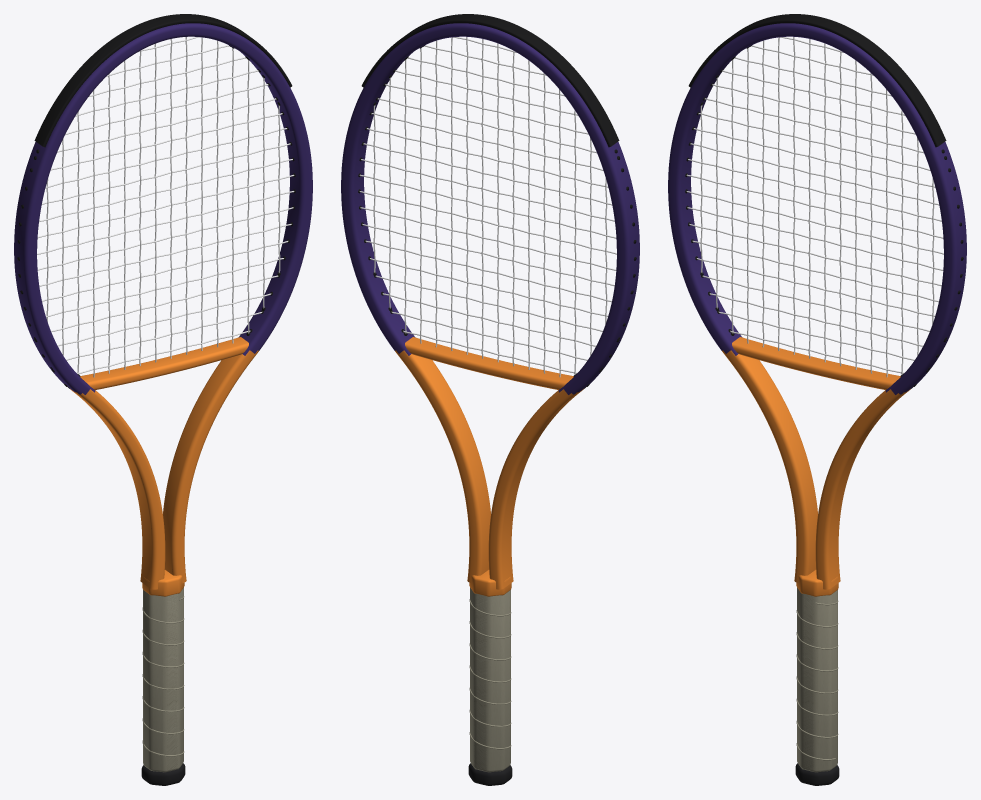
The model's file is head-gravity-mp-2025.glb.
3 renders of one model, left to right at view 1: azimuth 30°, elevation 25°; view 2: azimuth 150°, elevation 25°; view 3: azimuth 330°, elevation 25°, orthographic.
Visible parts, largest first — view 1: Frame, Strings, Handle, Bumper, Yoke, GripSeam, ButtCap, Collar; view 2: Frame, Strings, Handle, Bumper, Yoke, GripSeam, ButtCap, Collar; view 3: Frame, Strings, Handle, Bumper, Yoke, GripSeam, ButtCap, Collar.
Part boxes in pixels (box(x1,y1,x2,y2)): Frame: box(14, 23, 312, 589); Strings: box(37, 37, 294, 377); Handle: box(143, 587, 183, 772); Bumper: box(34, 14, 292, 147); Yoke: box(80, 337, 248, 389); GripSeam: box(142, 596, 184, 756); ButtCap: box(141, 763, 185, 785); Collar: box(142, 570, 184, 596); Frame: box(341, 23, 639, 589); Strings: box(359, 37, 616, 377); Handle: box(470, 587, 510, 772); Bumper: box(361, 14, 619, 147); Yoke: box(405, 337, 573, 389); GripSeam: box(469, 599, 511, 749); ButtCap: box(468, 763, 512, 785); Collar: box(469, 570, 511, 596); Frame: box(668, 23, 966, 589); Strings: box(686, 37, 943, 377); Handle: box(797, 587, 837, 772); Bumper: box(688, 14, 946, 147); Yoke: box(732, 337, 900, 389); GripSeam: box(796, 601, 838, 760); ButtCap: box(795, 763, 839, 785); Collar: box(796, 570, 838, 596).
Bounding box in the file's own units: 0.2758 × 0.6886 × 0.0327.
6 materials, 1 textured.
